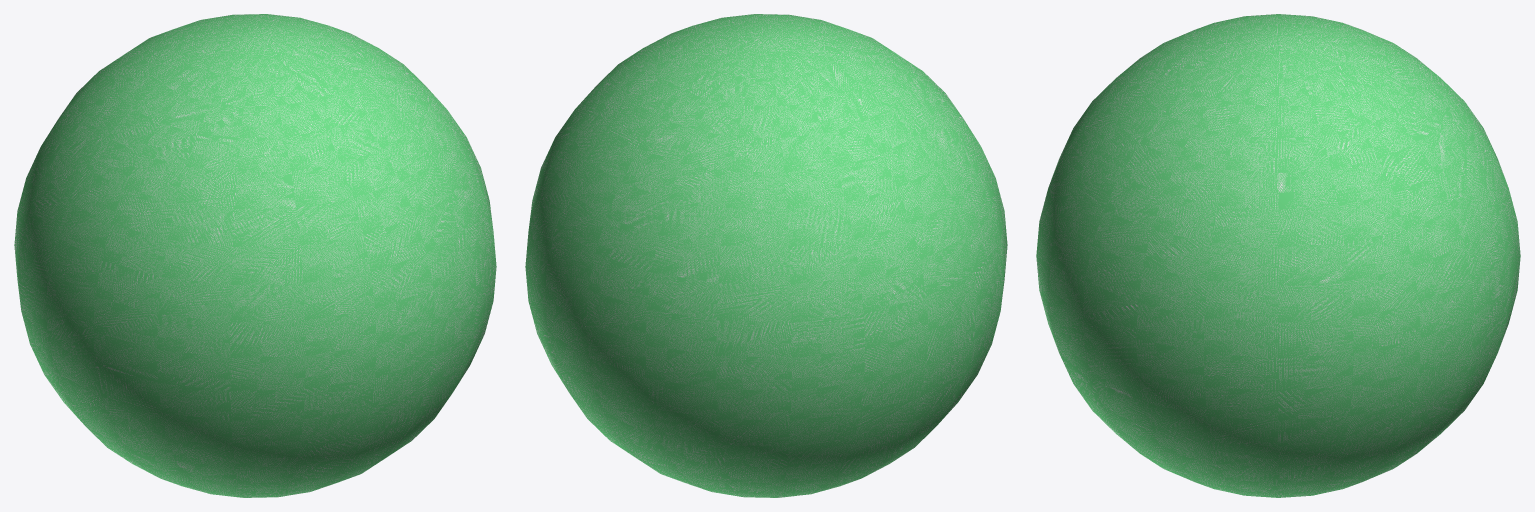
The model's file is testmesh3.fbx.
The picture shows the model from 3 angles, left to right: view 1: azimuth 30°, elevation 25°; view 2: azimuth 150°, elevation 25°; view 3: azimuth 270°, elevation 25°; orthographic projection.
Parts seen in each view (by area): view 1: bodymesh, insidemesh; view 2: bodymesh, insidemesh; view 3: bodymesh, insidemesh.
Part boxes in pixels (x1,y1,x2,y2): bodymesh: (14,14,496,497); insidemesh: (15,14,495,497); bodymesh: (525,14,1007,497); insidemesh: (526,14,1007,497); bodymesh: (1036,14,1520,497); insidemesh: (1037,14,1520,497).
Size of the model in its own units: 12.44 by 12.44 by 12.44.
